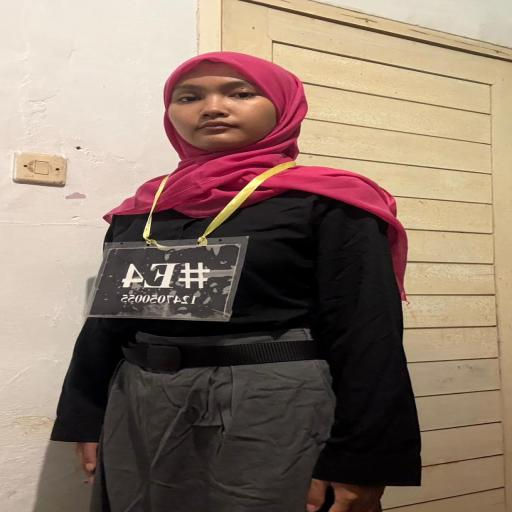kemeja_salah: (100, 194, 395, 341)
kerudung_benar: (115, 50, 374, 204)
nametag_ada: (81, 188, 253, 328)
rok_salah: (101, 361, 346, 512)
sabuk_ada: (110, 340, 334, 372)
